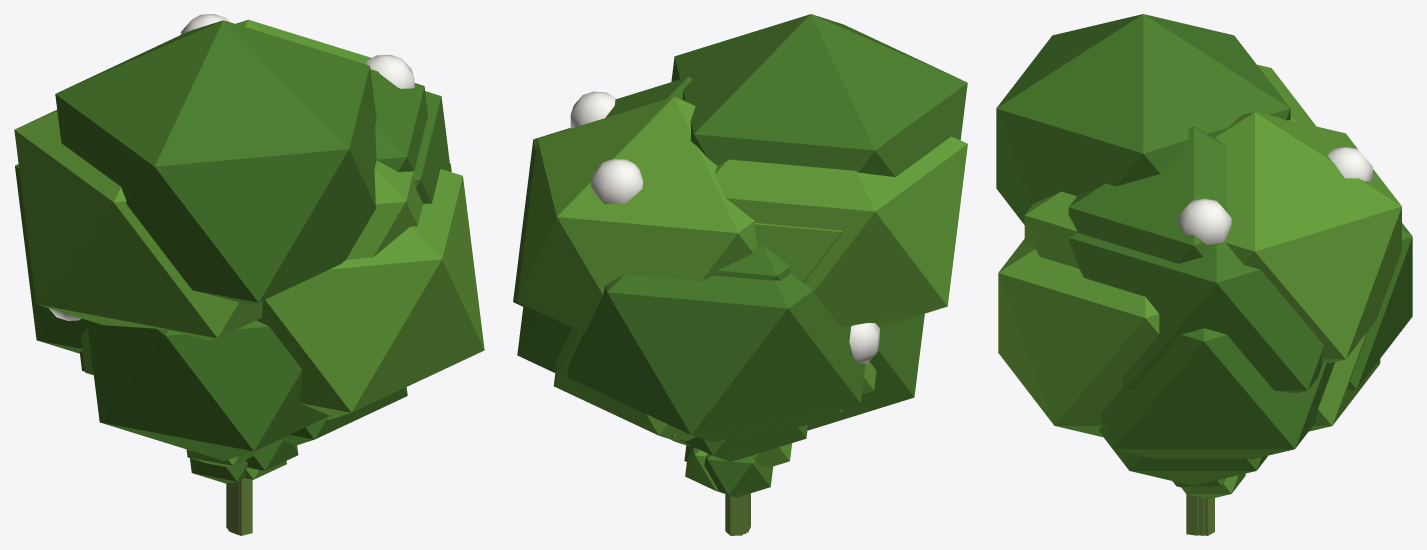
The model's file is Crop_Crop_Cotton.fbx.
The picture shows the model from 3 angles, left to right: view 1: azimuth 30°, elevation 25°; view 2: azimuth 150°, elevation 25°; view 3: azimuth 270°, elevation 25°; orthographic projection. The views are drawn at different scales.
Visible parts, largest first — view 1: Crop_Crop_Cotton__S4, Crop_Crop_Cotton__S3, Crop_Crop_Cotton__S1, Crop_Crop_Cotton__S5; view 2: Crop_Crop_Cotton__S4, Crop_Crop_Cotton__S3, Crop_Crop_Cotton__S1, Crop_Crop_Cotton__S5, Crop_Crop_Cotton__S2; view 3: Crop_Crop_Cotton__S4, Crop_Crop_Cotton__S3, Crop_Crop_Cotton__S5, Crop_Crop_Cotton__S1.
Part boxes in pixels (bbox=[...]): Crop_Crop_Cotton__S4: bbox=[14, 14, 484, 535]; Crop_Crop_Cotton__S3: bbox=[87, 69, 427, 530]; Crop_Crop_Cotton__S1: bbox=[186, 439, 298, 535]; Crop_Crop_Cotton__S5: bbox=[79, 327, 407, 528]; Crop_Crop_Cotton__S4: bbox=[513, 14, 967, 532]; Crop_Crop_Cotton__S3: bbox=[553, 77, 924, 533]; Crop_Crop_Cotton__S1: bbox=[684, 443, 792, 526]; Crop_Crop_Cotton__S5: bbox=[671, 361, 876, 535]; Crop_Crop_Cotton__S2: bbox=[680, 425, 807, 461]; Crop_Crop_Cotton__S4: bbox=[996, 14, 1412, 459]; Crop_Crop_Cotton__S3: bbox=[1024, 127, 1380, 431]; Crop_Crop_Cotton__S5: bbox=[1104, 438, 1267, 535]; Crop_Crop_Cotton__S1: bbox=[1172, 473, 1245, 535].
Bounding box in the file's own units: 0.2192 × 0.2661 × 0.2023.
